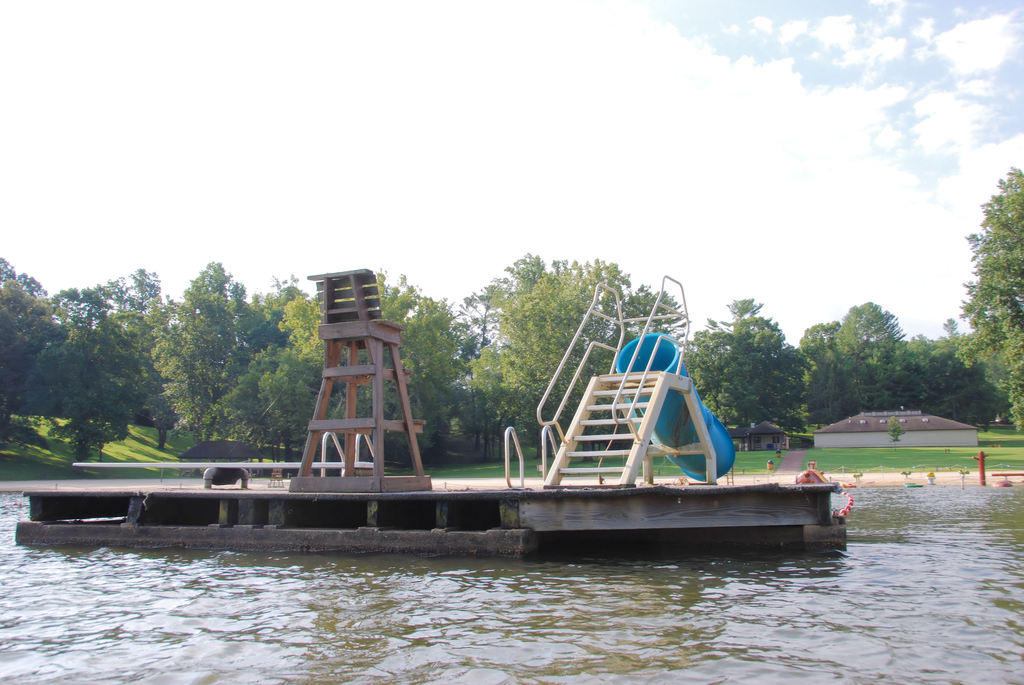Tree: (0, 164, 1024, 470)
